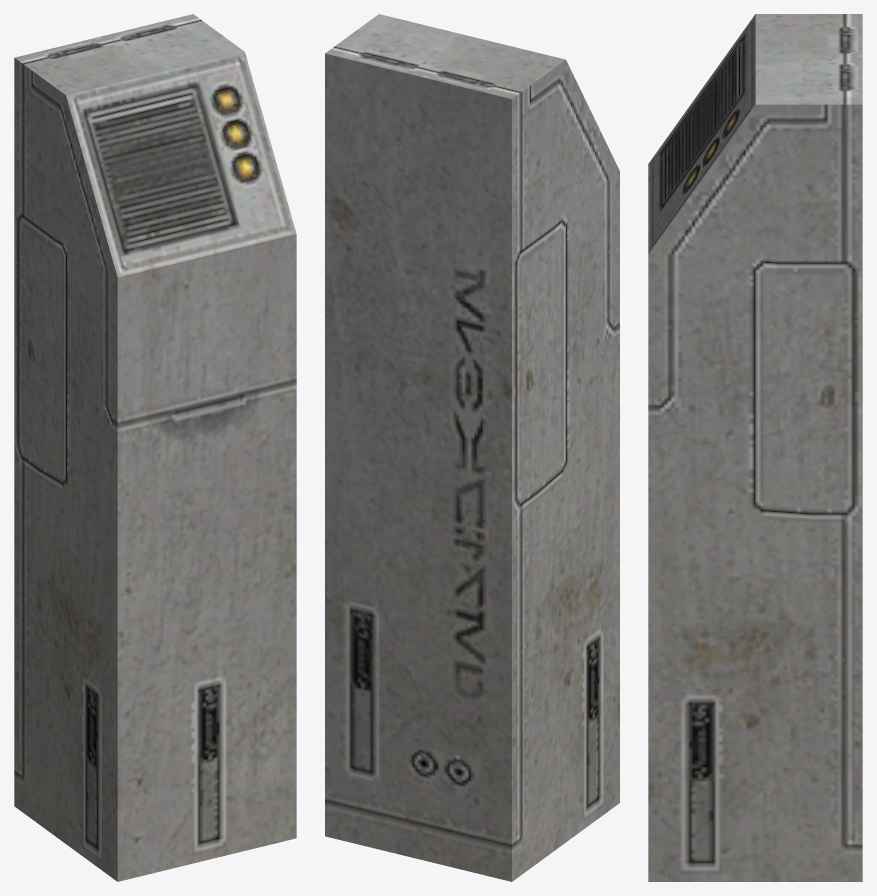
File: con_gen_organic_food_sml_l0.fbx
The picture shows the model from 3 angles, left to right: view 1: azimuth 30°, elevation 25°; view 2: azimuth 150°, elevation 25°; view 3: azimuth 270°, elevation 25°; orthographic projection. The views are drawn at different scales.
Parts seen in each view (by area): view 1: mesh_node; view 2: mesh_node; view 3: mesh_node.
Boxes of the visible parts, bbox=[...] form: mesh_node: bbox=[14, 14, 296, 881]; mesh_node: bbox=[325, 14, 619, 881]; mesh_node: bbox=[648, 14, 862, 881].
Bounding box in the file's own units: 0.4099 × 1.64 × 0.4099.
